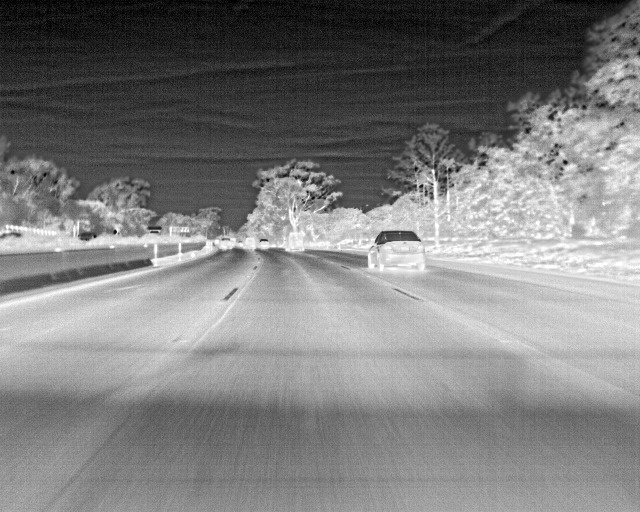vehicle: (368, 231, 428, 271)
